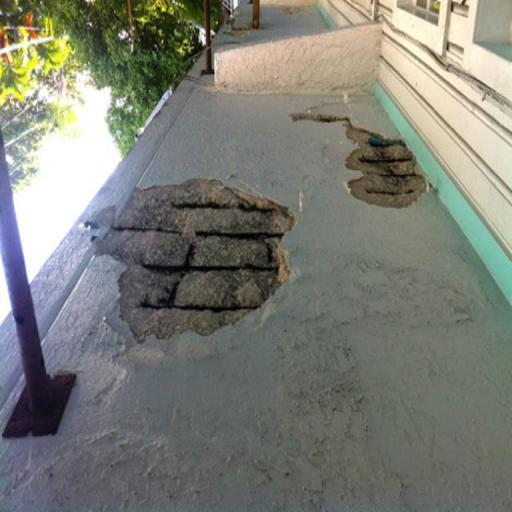spalling: (84, 175, 303, 341)
